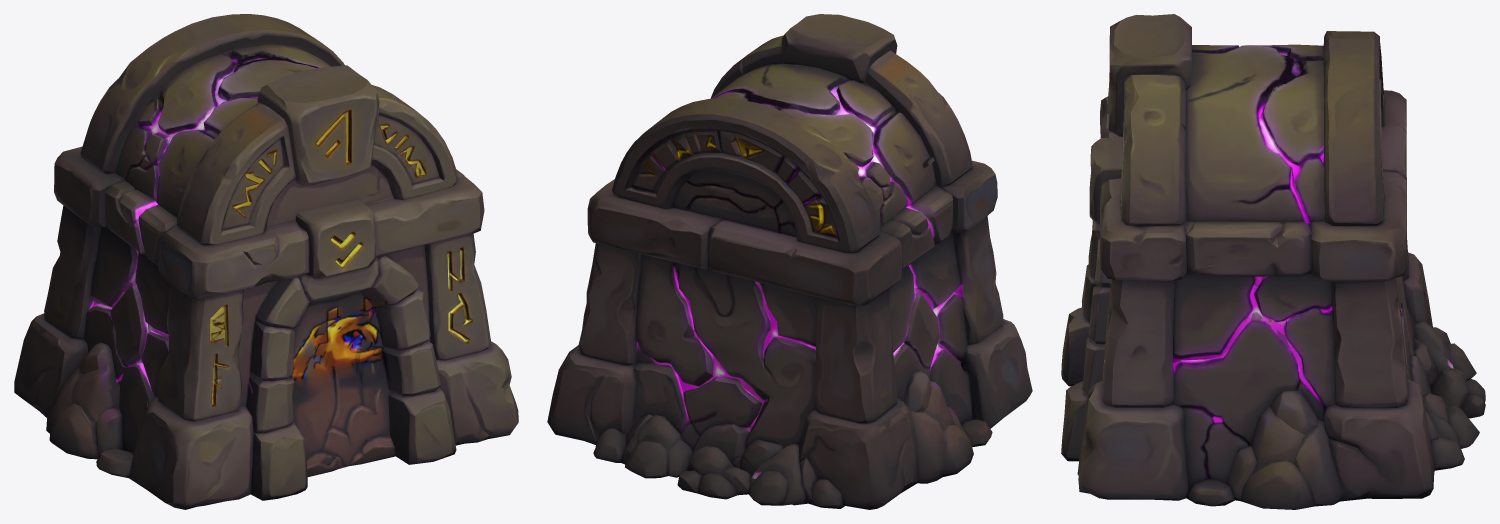
The model's file is Galwadore_Gold_building.fbx.
The picture shows the model from 3 angles, left to right: view 1: azimuth 30°, elevation 25°; view 2: azimuth 150°, elevation 25°; view 3: azimuth 270°, elevation 25°; orthographic projection. The views are drawn at different scales.
Parts seen in each view (by area): view 1: Galwadore_Gold; view 2: Galwadore_Gold; view 3: Galwadore_Gold.
Boxes of the visible parts, x1,y1,x2,y2 form: Galwadore_Gold: (14,14,518,509); Galwadore_Gold: (547,14,1032,509); Galwadore_Gold: (1061,14,1485,509).
Bounding box in the file's own units: 137 × 123 × 125.
1 material, 1 textured.
